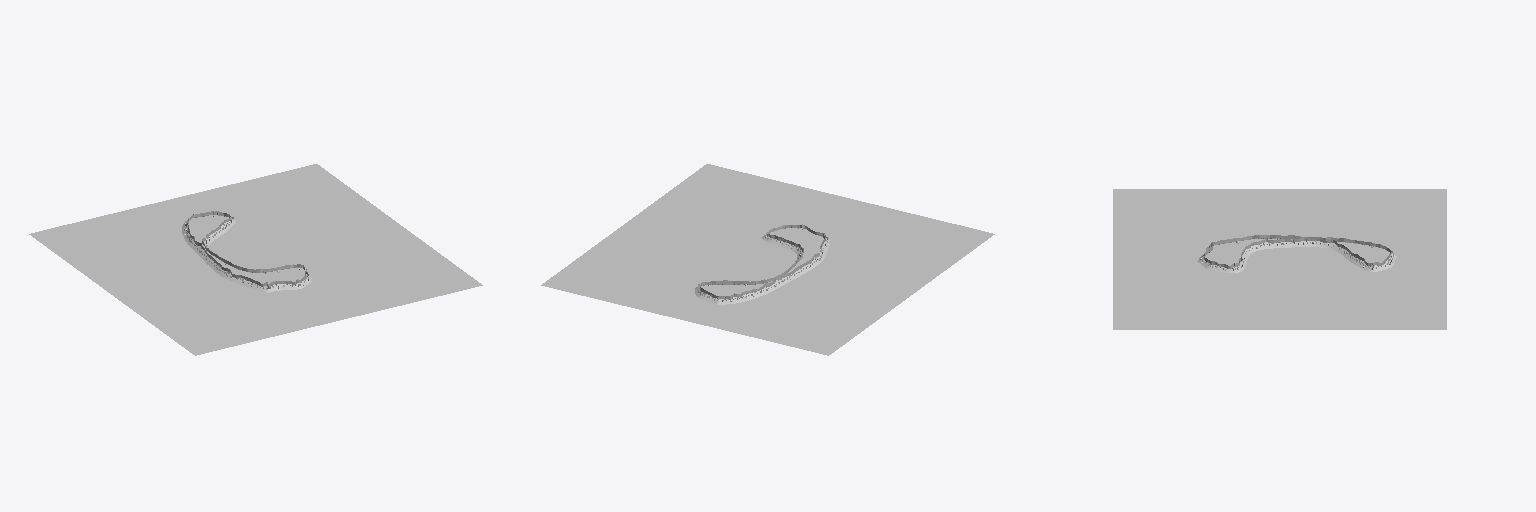
The picture shows the model from 3 angles: view 1: azimuth 30°, elevation 25°; view 2: azimuth 150°, elevation 25°; view 3: azimuth 270°, elevation 25°; orthographic projection.
Visible parts, largest first — view 1: Plane; view 2: Plane; view 3: Plane.
Boxes of the visible parts, x1,y1,x2,y2 form: Plane: [29, 164, 482, 355]; Plane: [541, 164, 994, 355]; Plane: [1113, 189, 1446, 329].
Bounding box in the file's own units: 1400 × 34.87 × 1400.